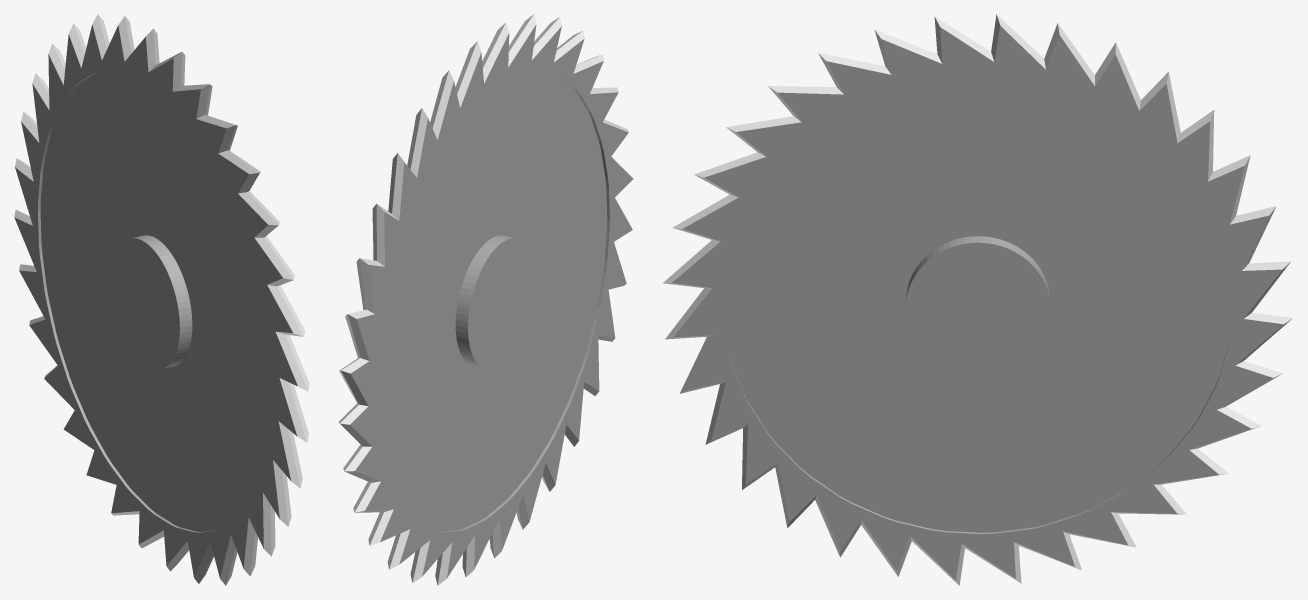
The model's file is CircularSaw.fbx.
3 renders of one model, left to right at view 1: azimuth 30°, elevation 25°; view 2: azimuth 150°, elevation 25°; view 3: azimuth 270°, elevation 25°, orthographic. The views are drawn at different scales.
Visible parts, largest first — view 1: circular_saw; view 2: circular_saw; view 3: circular_saw.
Part boxes in pixels (left/top/right/bottom): circular_saw: left=14, top=14, right=309, bottom=585; circular_saw: left=338, top=14, right=633, bottom=585; circular_saw: left=663, top=14, right=1292, bottom=585.
Size of the model in its own units: 5.37 by 87.25 by 87.23.
